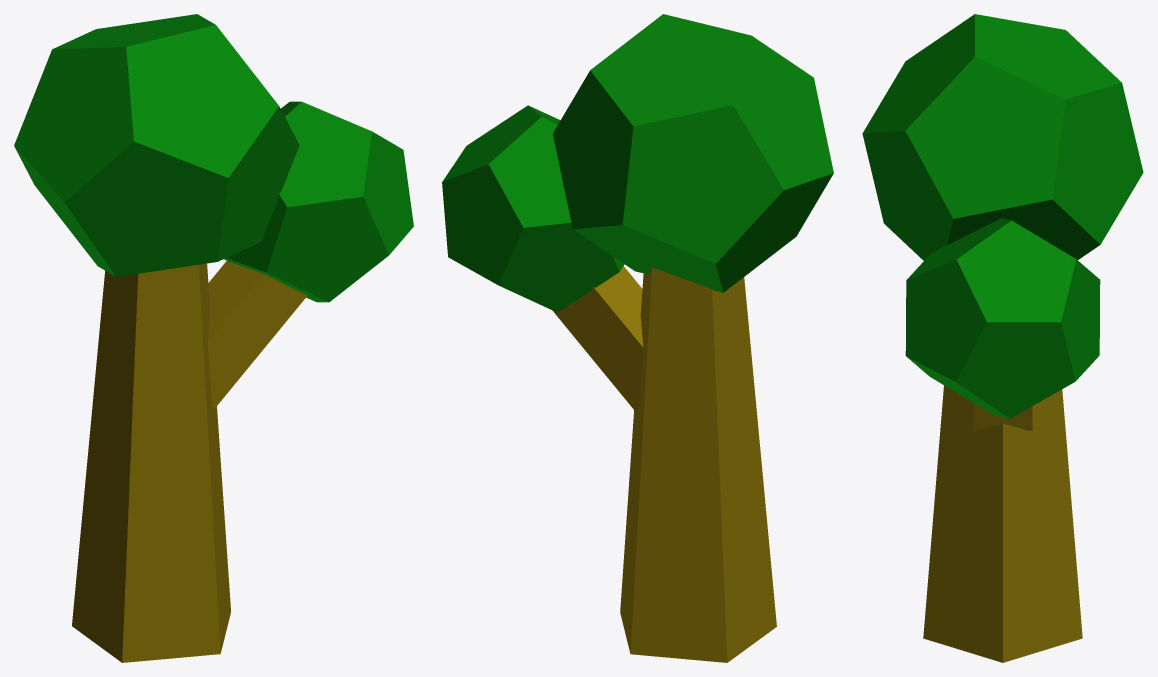
File: Tree3.fbx
The picture shows the model from 3 angles, left to right: view 1: azimuth 30°, elevation 25°; view 2: azimuth 150°, elevation 25°; view 3: azimuth 270°, elevation 25°; orthographic projection. The views are drawn at different scales.
Parts seen in each view (by area): view 1: Tree3; view 2: Tree3; view 3: Tree3.
Part boxes in pixels (left/top/right/bottom): Tree3: left=14, top=14, right=413, bottom=662; Tree3: left=442, top=14, right=833, bottom=662; Tree3: left=862, top=14, right=1143, bottom=662.
Size of the model in its own units: 3.13 by 5.08 by 2.19.
1 material, 1 textured.
